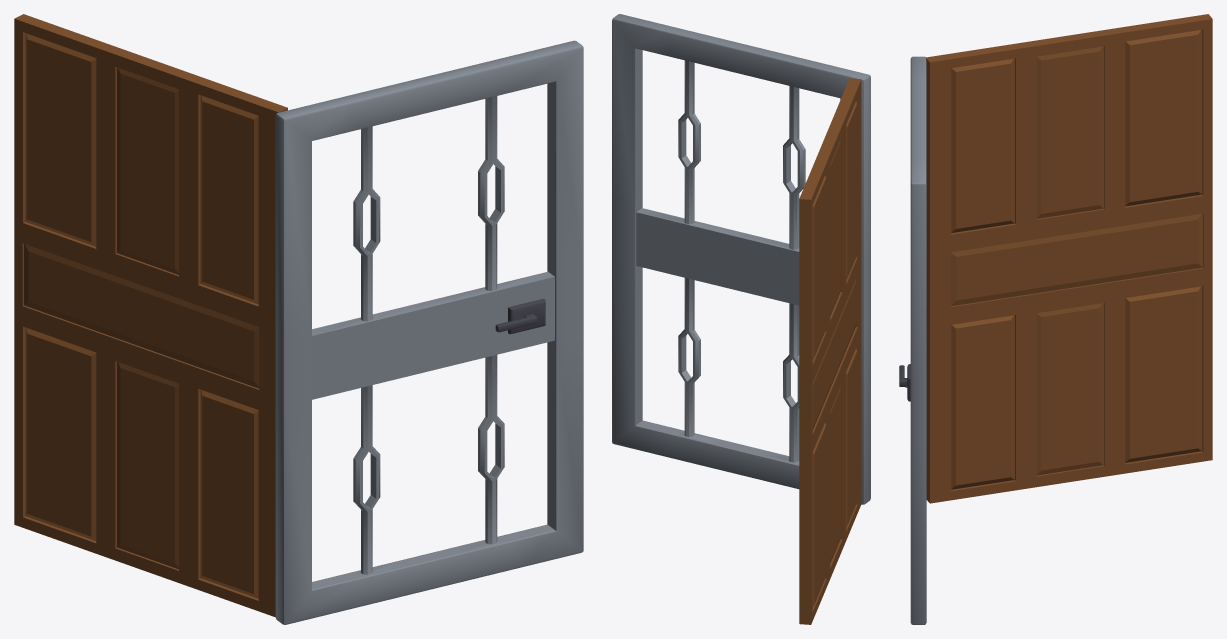
Rendered from MP_Door_Closing.fbx.
3 renders of one model, left to right at view 1: azimuth 30°, elevation 25°; view 2: azimuth 150°, elevation 25°; view 3: azimuth 270°, elevation 25°, orthographic. The views are drawn at different scales.
Parts seen in each view (by area): view 1: Cube, Gate; view 2: Gate, Cube; view 3: Cube, Gate.
Boxes of the visible parts, <box> form: Cube: <box>14,14,287,617</box>; Gate: <box>275,40,583,624</box>; Gate: <box>612,14,870,504</box>; Cube: <box>799,78,861,624</box>; Cube: <box>925,14,1212,503</box>; Gate: <box>899,56,926,624</box>.
Bounding box in the file's own units: 147 × 178 × 114.
